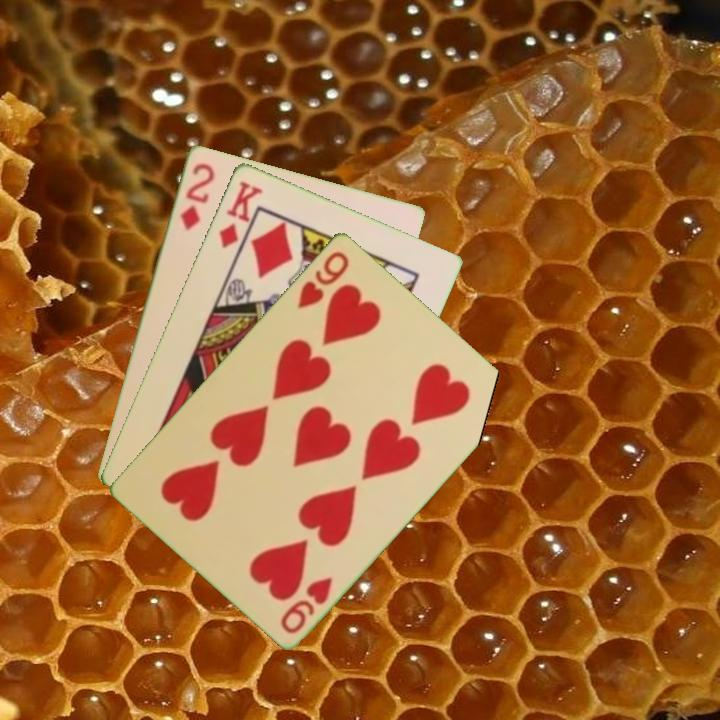2d: (176, 159, 217, 233)
9h: (294, 247, 352, 312), (277, 572, 335, 636)
Kd: (215, 176, 266, 251)
